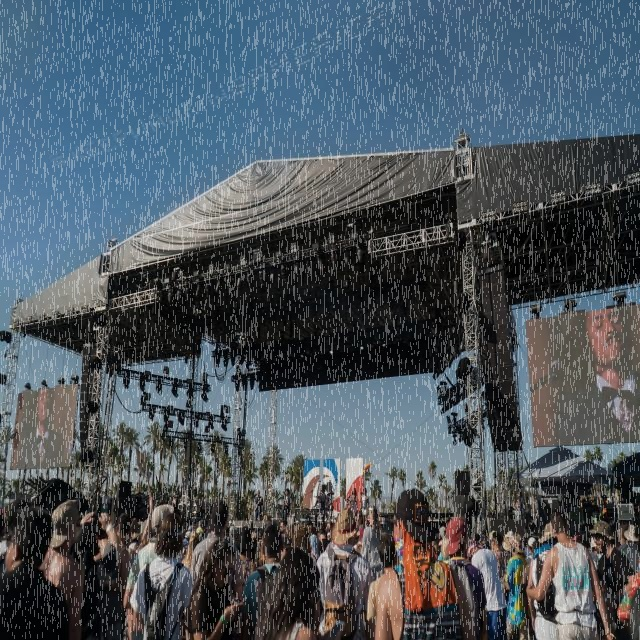pessoa: (374, 488, 476, 639), (551, 306, 640, 445), (525, 507, 618, 639), (0, 501, 70, 640), (129, 511, 196, 640), (316, 507, 373, 640), (180, 538, 248, 640), (123, 504, 174, 639), (70, 510, 122, 640), (39, 500, 85, 639), (256, 548, 322, 640), (588, 520, 636, 640), (190, 498, 244, 604), (446, 516, 488, 640), (240, 522, 284, 640), (466, 539, 508, 640), (17, 386, 65, 468), (227, 526, 259, 639), (366, 534, 399, 640), (502, 532, 530, 640), (94, 512, 132, 584), (0, 492, 29, 578), (518, 540, 543, 639), (358, 526, 386, 585), (135, 494, 154, 555), (500, 530, 515, 606), (626, 564, 640, 640), (180, 528, 202, 574), (182, 519, 210, 554), (491, 531, 508, 584), (250, 524, 268, 574), (123, 525, 137, 583), (430, 526, 450, 564), (291, 524, 312, 560), (280, 522, 298, 562), (312, 484, 326, 530), (572, 534, 596, 560), (368, 510, 384, 544), (316, 524, 331, 558), (474, 528, 496, 551), (590, 536, 604, 571), (622, 524, 640, 551), (128, 518, 142, 552), (326, 513, 342, 542), (616, 524, 630, 554), (580, 492, 612, 505), (540, 522, 558, 545), (360, 487, 369, 529), (308, 534, 320, 565), (524, 537, 536, 565), (222, 524, 238, 545), (353, 527, 365, 554), (282, 488, 292, 520), (254, 490, 264, 520), (516, 490, 526, 520), (349, 488, 358, 518), (356, 492, 363, 530), (74, 496, 90, 512), (326, 488, 334, 518), (101, 488, 110, 514), (172, 490, 180, 516), (279, 518, 289, 538), (308, 526, 320, 542), (369, 509, 376, 534), (134, 492, 142, 512), (95, 490, 102, 510), (178, 516, 185, 529), (344, 496, 350, 508), (382, 531, 392, 538), (164, 497, 170, 505), (156, 500, 164, 505)
